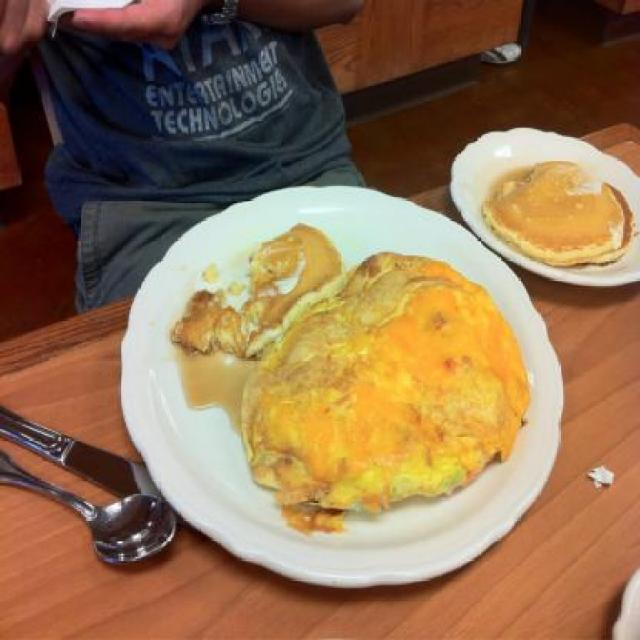omelette: (243, 252, 531, 528)
pancakes: (169, 224, 345, 354), (479, 148, 635, 270)
